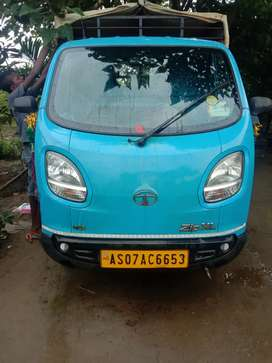AS07AC6653: (99, 249, 189, 268)
